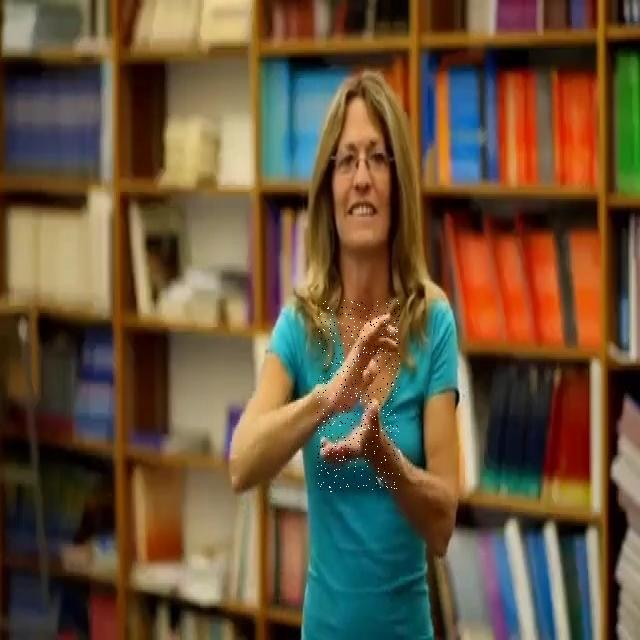cheese: (317, 300, 400, 492)
